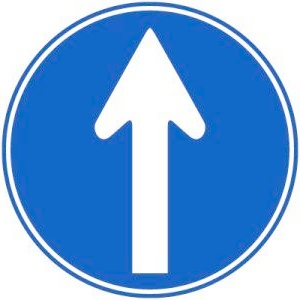Direction_sign: (2, 1, 297, 297)
